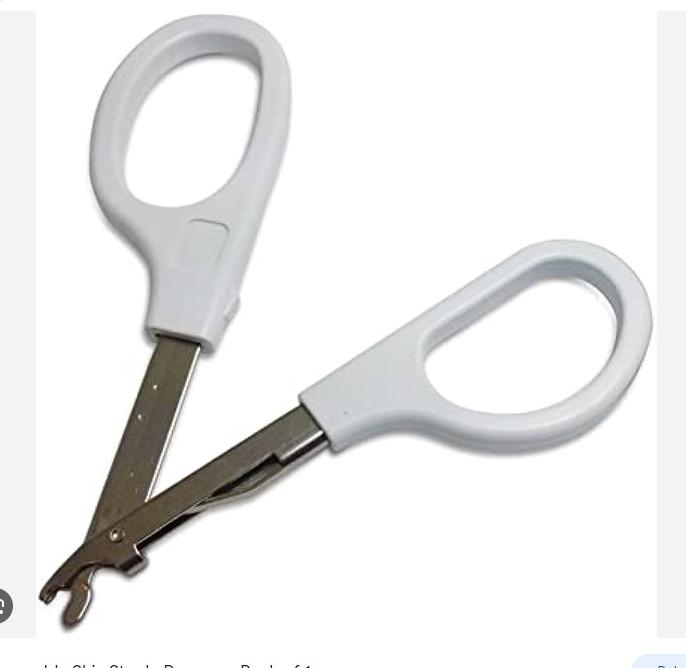Stapler Remover: (32, 8, 649, 631)
